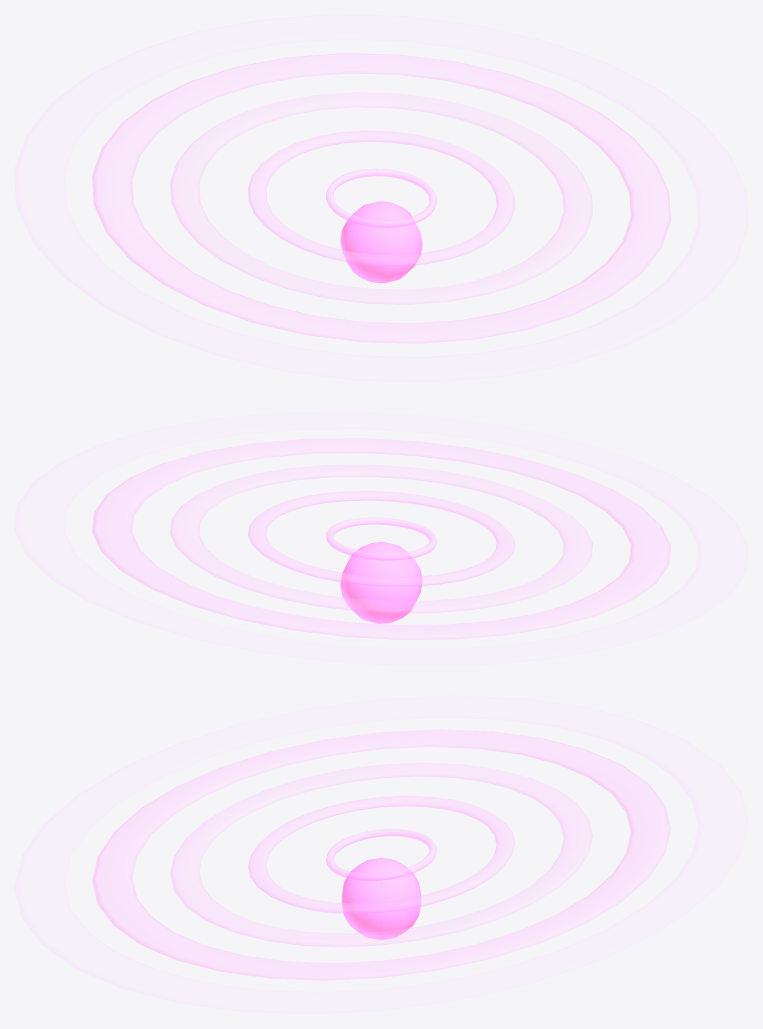
The model's file is pulse.glb.
The picture shows the model from 3 angles, top to bottom: view 1: azimuth 30°, elevation 25°; view 2: azimuth 150°, elevation 25°; view 3: azimuth 270°, elevation 25°; orthographic projection.
Bounding box in the file's own units: 1.14 × 0.1975 × 1.13.
